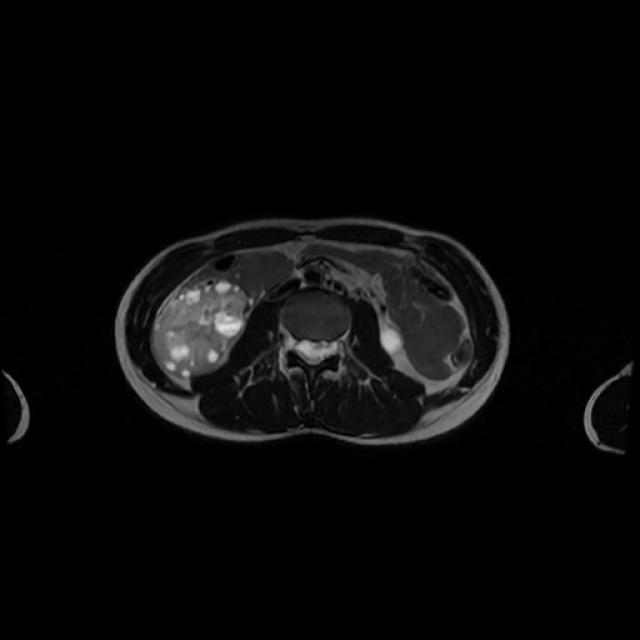sag: (151, 283, 249, 379)
sol: (381, 329, 404, 355)
